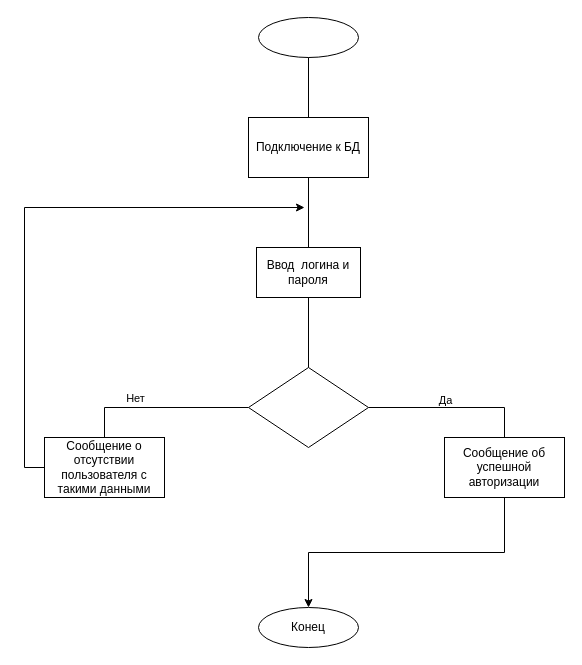
Image size: 582x665. Some labels were removed from this diagram. Here are the shapes that lost their labels. From the top down, the centre of each, then its label:
At point 308,37: "Начало".
At point 308,407: "Найдены ли совпадения".
